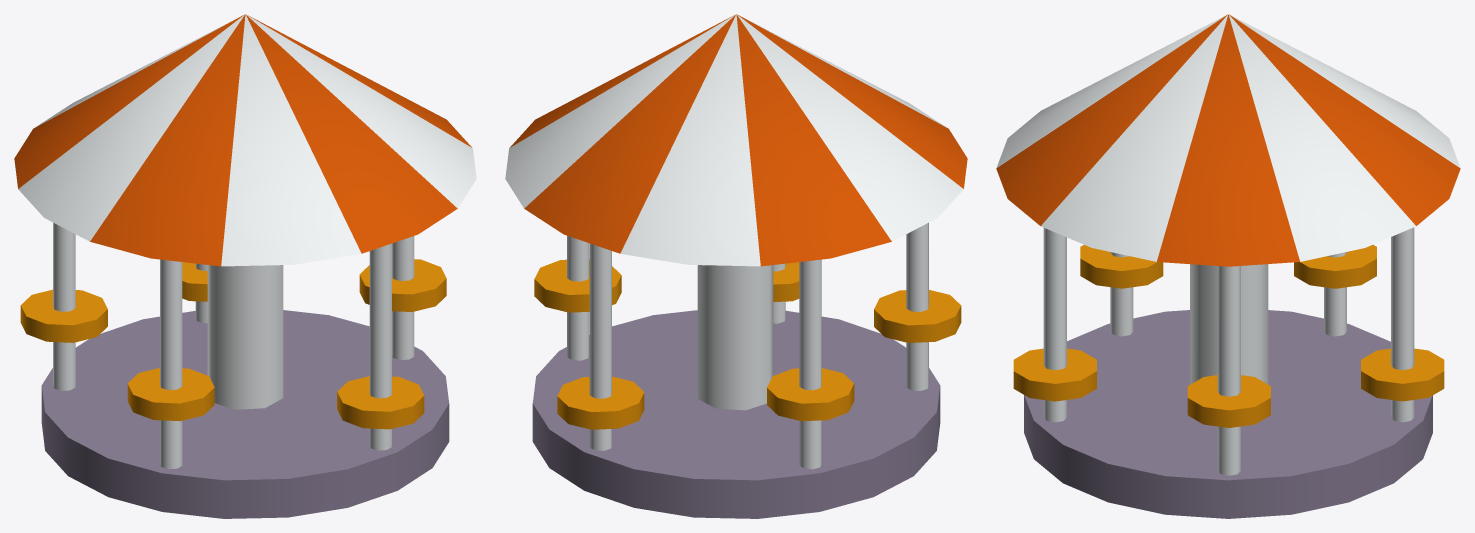
Rendered from carousel01_s01.FBX.
3 renders of one model, left to right at view 1: azimuth 30°, elevation 25°; view 2: azimuth 150°, elevation 25°; view 3: azimuth 270°, elevation 25°, orthographic.
Visible parts, largest first — view 1: carousel01_s01; view 2: carousel01_s01; view 3: carousel01_s01.
Boxes of the visible parts, x1,y1,x2,y2 form: carousel01_s01: (14, 14, 476, 518); carousel01_s01: (505, 14, 967, 518); carousel01_s01: (996, 14, 1460, 518).
Bounding box in the file's own units: 389 × 389 × 387.
1 material, 1 textured.
